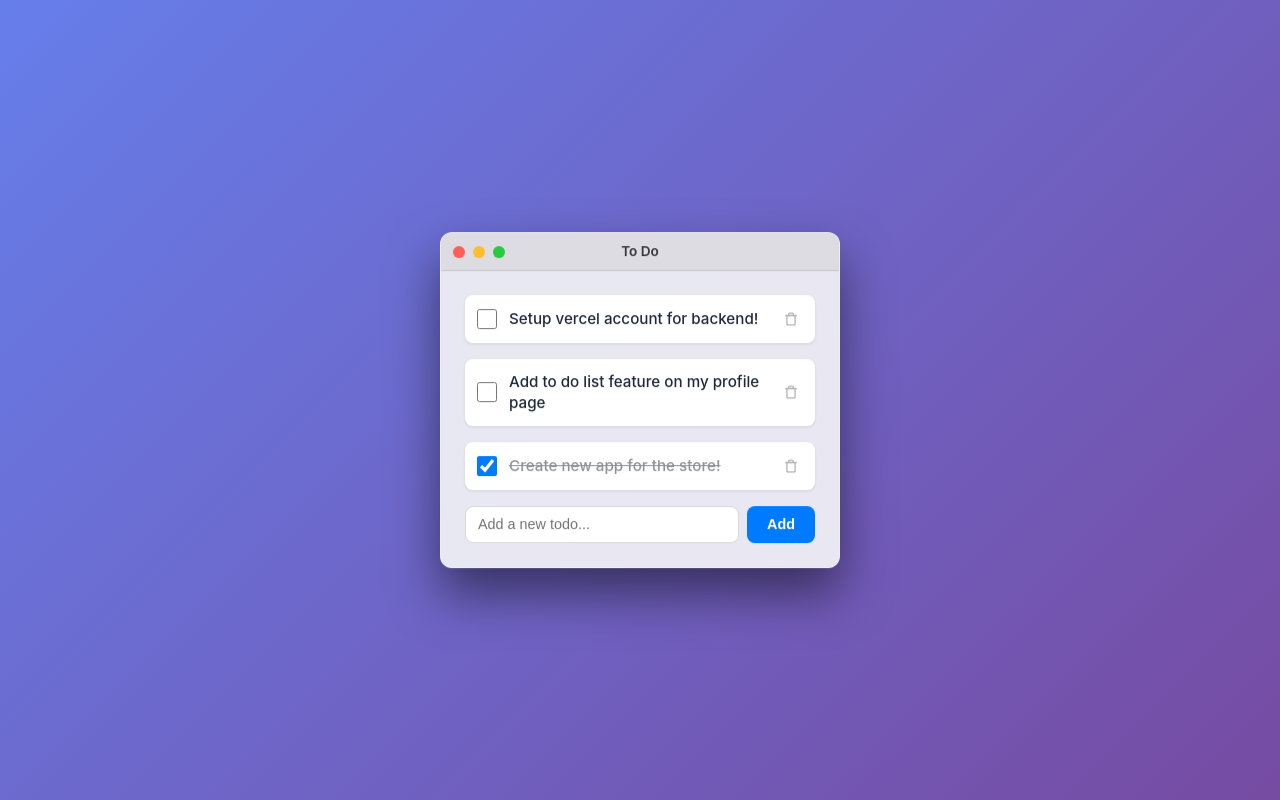
TodoList › delete item › removes item from list after successful delete
The width and height of the screenshot is (1280, 800).
Click the button named "Delete Setup vercel". click: x=791, y=319
box: [779,307,803,331]
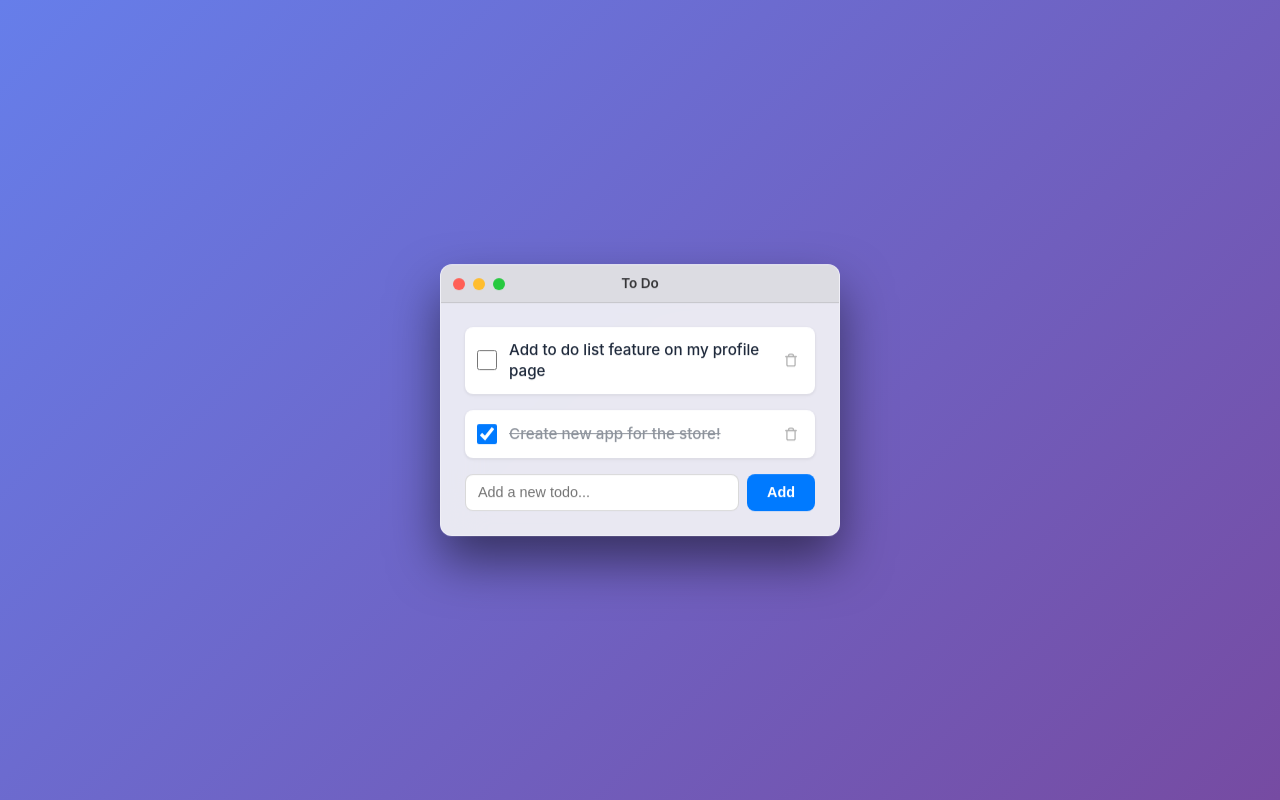
Check: the text "Add to do list feature on my profile page" is shown, box [509,339,767,382]
Check: the text "Setup vercel account for backend!" is gone
